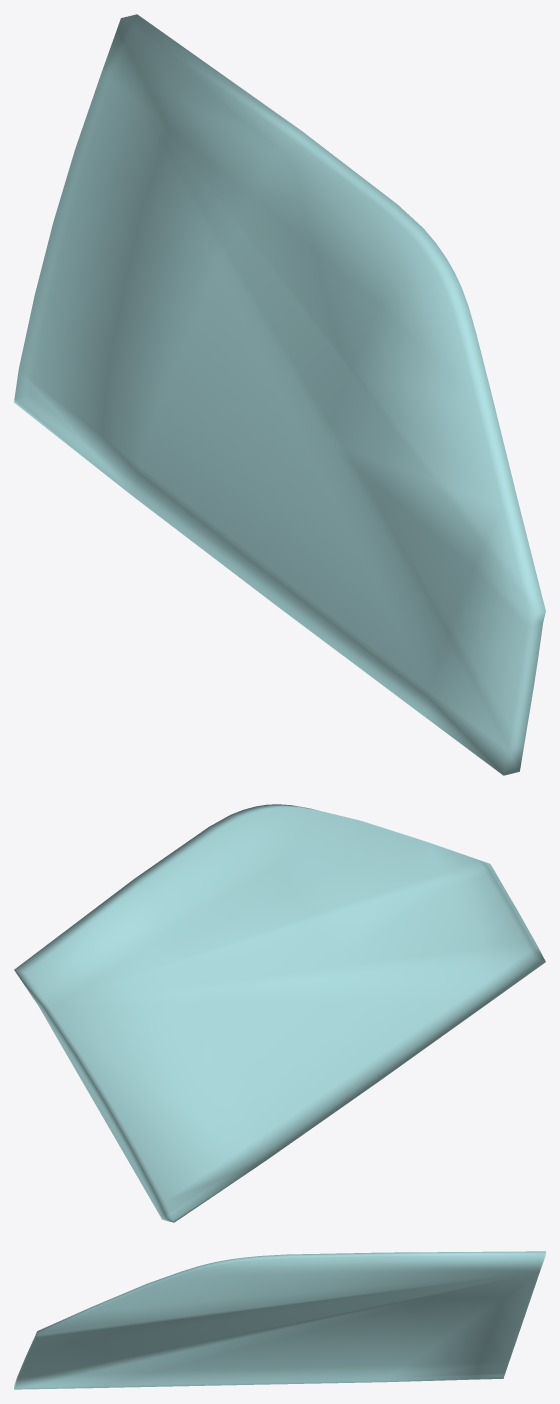
The picture shows the model from 3 angles, top to bottom: view 1: azimuth 30°, elevation 25°; view 2: azimuth 150°, elevation 25°; view 3: azimuth 270°, elevation 25°; orthographic projection. The views are drawn at different scales.
Visible parts, largest first — view 1: sideR_glass.004; view 2: sideR_glass.004; view 3: sideR_glass.004.
Part boxes in pixels (<box>): sideR_glass.004: <box>14,14,545,775</box>; sideR_glass.004: <box>14,804,545,1222</box>; sideR_glass.004: <box>14,1251,545,1389</box>.
Bounding box in the file's own units: 18.14 × 34.38 × 97.59.
